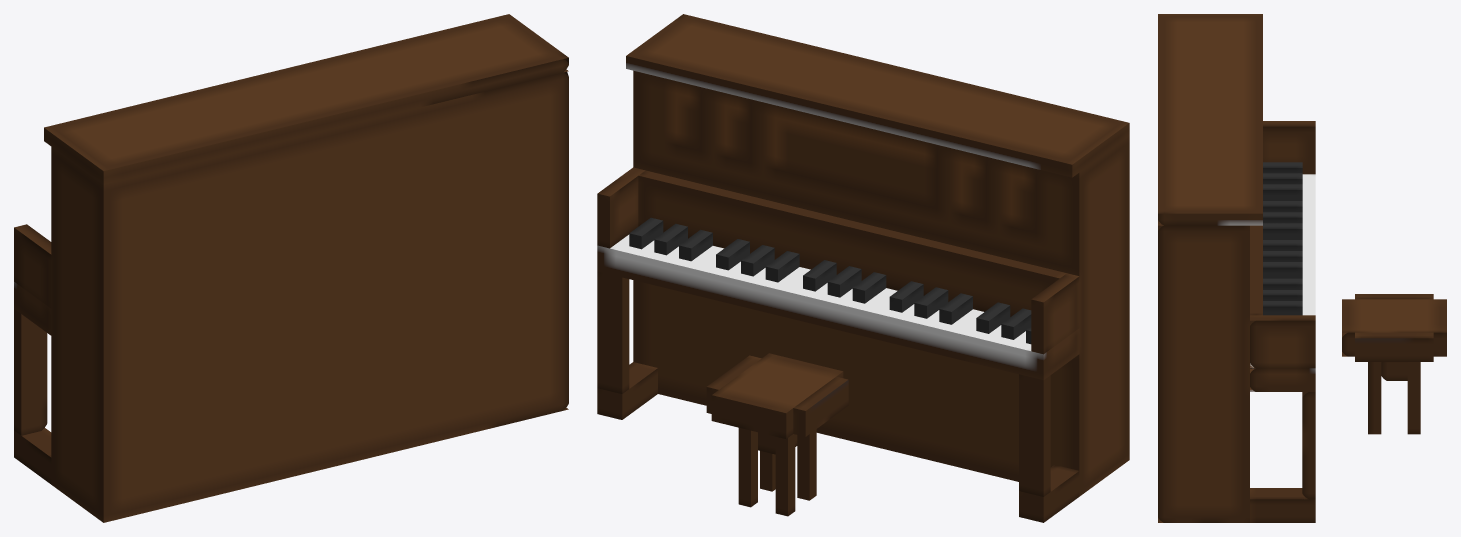
The model's file is Piano.obj.
The picture shows the model from 3 angles, left to right: view 1: azimuth 30°, elevation 25°; view 2: azimuth 150°, elevation 25°; view 3: azimuth 270°, elevation 25°; orthographic projection. The views are drawn at different scales.
Parts seen in each view (by area): view 1: cube; view 2: cube; view 3: cube.
Part boxes in pixels (<box>): cube: <box>14,14,568,522</box>; cube: <box>597,14,1129,522</box>; cube: <box>1158,14,1446,522</box>.
Size of the model in its own units: 2.25 by 1.62 by 1.38.
